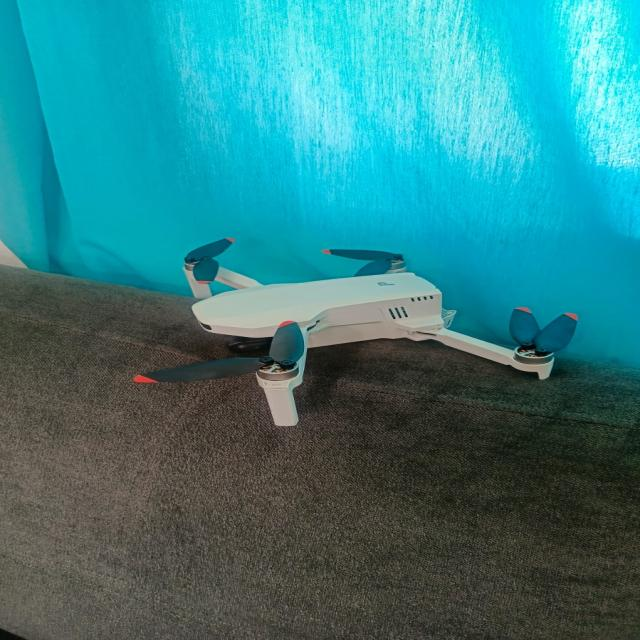dron: (140, 211, 586, 435)
